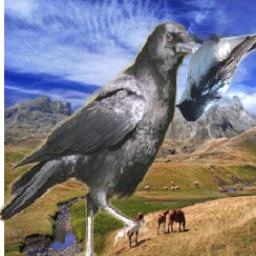Crow: (0, 18, 205, 256)
Swallow: (174, 35, 256, 122)
